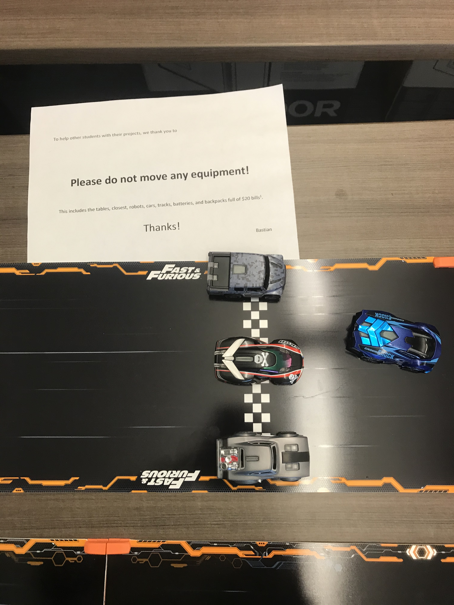Charger: (216, 432, 313, 482)
Finish Line: (242, 266, 272, 479)
MXT: (206, 251, 288, 303)
Shock: (348, 308, 443, 376)
Skull: (213, 338, 305, 386)
